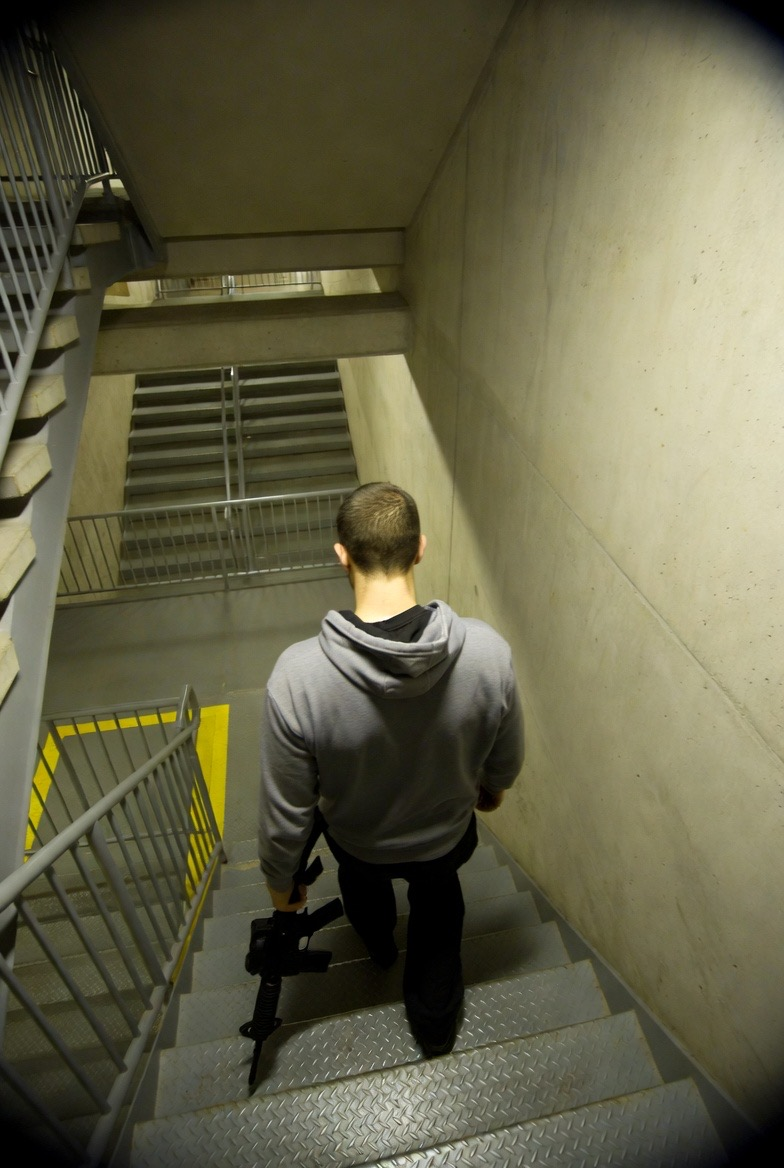person: (256, 480, 526, 1062)
weapon: (240, 895, 345, 1091)
